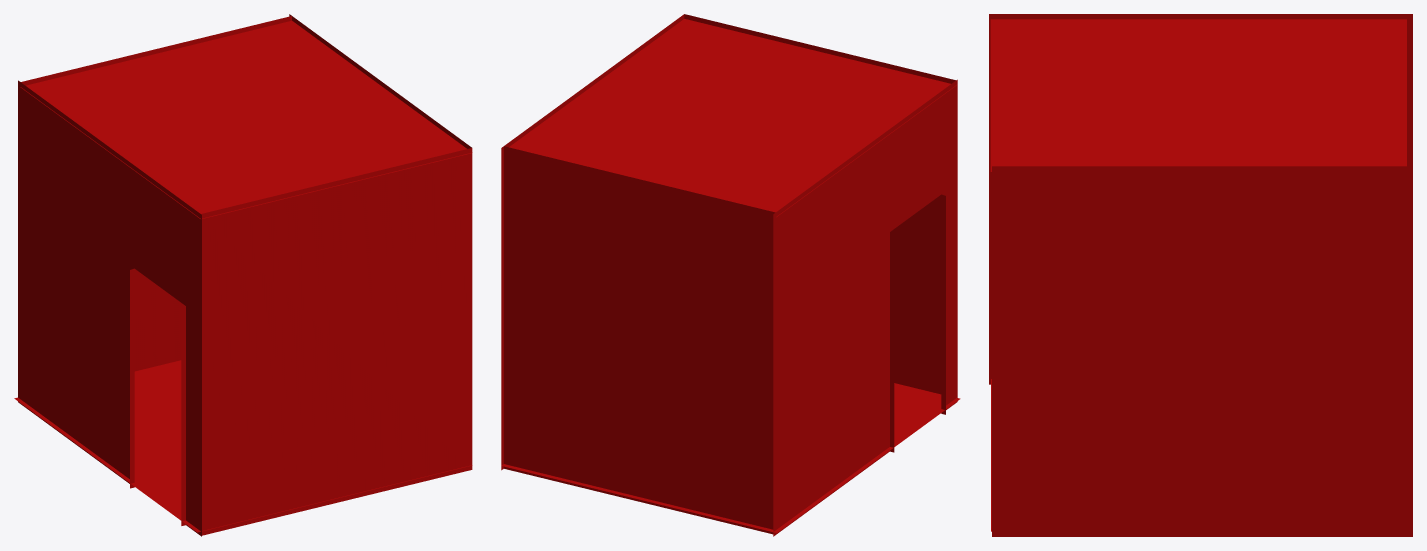
The model's file is HabitacionKath.fbx.
3 renders of one model, left to right at view 1: azimuth 30°, elevation 25°; view 2: azimuth 150°, elevation 25°; view 3: azimuth 270°, elevation 25°, orthographic. The views are drawn at different scales.
Visible parts, largest first — view 1: ParedKath1, ParedKath, Techo_Kath, PisoKath, ParedKath3, ParedKath2; view 2: ParedKath3, ParedKath, Techo_Kath, ParedKath1, PisoKath, ParedKath2; view 3: ParedKath2, Techo_Kath, ParedKath.
Part boxes in pixels (box(x1,y1,x2,y2)): ParedKath1: box(201, 148, 472, 535); ParedKath: box(18, 80, 201, 536); Techo_Kath: box(20, 20, 472, 218); PisoKath: box(14, 360, 472, 532); ParedKath3: box(21, 16, 291, 371); ParedKath2: box(289, 14, 471, 148); ParedKath3: box(504, 146, 775, 534); ParedKath: box(773, 79, 957, 536); Techo_Kath: box(509, 19, 957, 217); ParedKath1: box(684, 14, 955, 394); PisoKath: box(501, 383, 960, 532); ParedKath2: box(501, 14, 684, 470); ParedKath2: box(992, 166, 1412, 536); Techo_Kath: box(990, 19, 1406, 171); ParedKath: box(989, 14, 1412, 384).
Bounding box in the file's own units: 305 × 340 × 352.
